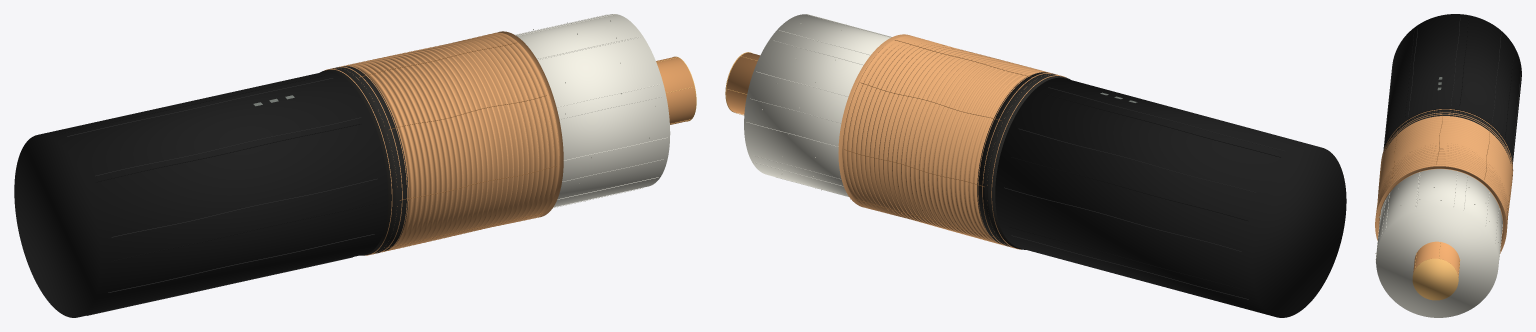
File: rf-ldf45-macro.glb
The picture shows the model from 3 angles, left to right: view 1: azimuth 30°, elevation 25°; view 2: azimuth 150°, elevation 25°; view 3: azimuth 270°, elevation 25°; orthographic projection. The views are drawn at different scales.
Visible parts, largest first — view 1: macro hardline jacket body, annular corrugated solid shield, macro foam dielectric exposed core, hardline jacket cut wall, polished solid center conductor, rounded jacket cut lip; view 2: macro hardline jacket body, annular corrugated solid shield, macro foam dielectric exposed core, hardline jacket cut wall, polished solid center conductor, rounded jacket cut lip; view 3: macro foam dielectric exposed core, macro hardline jacket body, annular corrugated solid shield, polished conductor cut face glow, hardline jacket cut wall, polished solid center conductor, rounded jacket cut lip.
Boxes of the visible parts, x1=… form: macro hardline jacket body: x1=14, y1=71, x2=388, y2=317; annular corrugated solid shield: x1=324, y1=31, x2=563, y2=255; macro foam dielectric exposed core: x1=516, y1=14, x2=670, y2=207; hardline jacket cut wall: x1=320, y1=66, x2=408, y2=255; polished solid center conductor: x1=656, y1=57, x2=695, y2=124; rounded jacket cut lip: x1=330, y1=67, x2=399, y2=253; macro hardline jacket body: x1=995, y1=77, x2=1346, y2=317; annular corrugated solid shield: x1=838, y1=34, x2=1066, y2=249; macro foam dielectric exposed core: x1=744, y1=14, x2=890, y2=196; hardline jacket cut wall: x1=977, y1=72, x2=1070, y2=249; polished solid center conductor: x1=726, y1=52, x2=760, y2=114; rounded jacket cut lip: x1=985, y1=73, x2=1055, y2=246; macro foam dielectric exposed core: x1=1376, y1=169, x2=1502, y2=317; macro hardline jacket body: x1=1383, y1=14, x2=1521, y2=163; annular corrugated solid shield: x1=1375, y1=109, x2=1513, y2=253; polished conductor cut face glow: x1=1412, y1=258, x2=1458, y2=300; hardline jacket cut wall: x1=1385, y1=108, x2=1511, y2=163; polished solid center conductor: x1=1413, y1=241, x2=1459, y2=277; rounded jacket cut lip: x1=1382, y1=110, x2=1512, y2=175.
Bounding box in the file's own units: 13.02 × 3.5 × 3.88.
